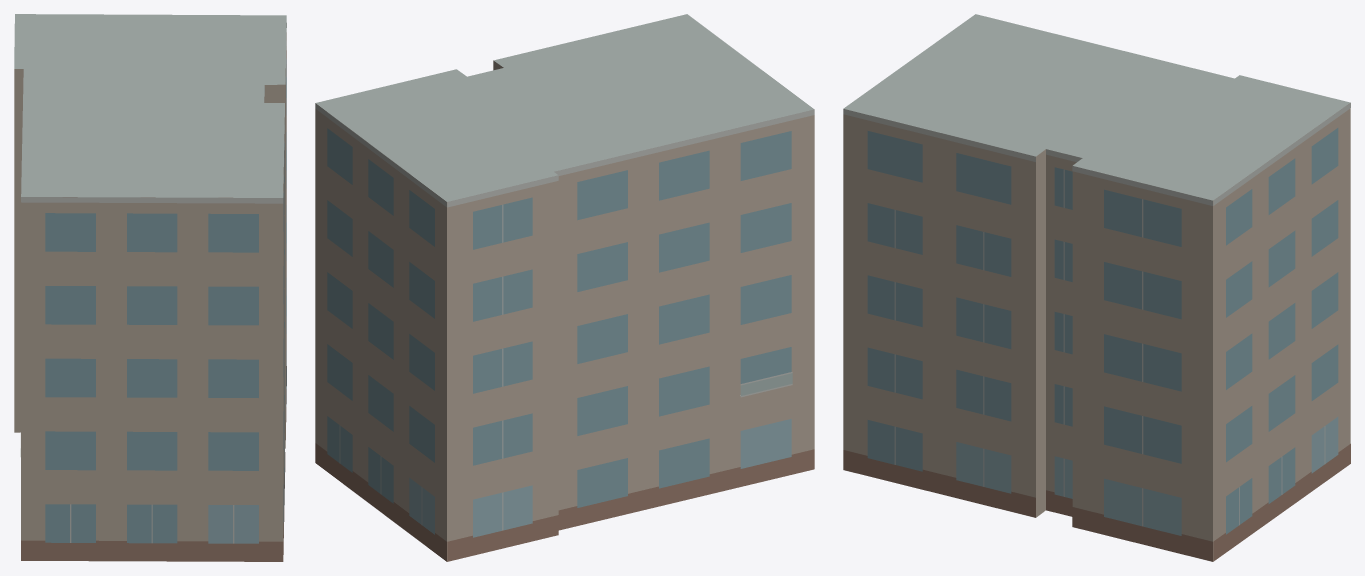
File: survey-upis-32945272.glb
The picture shows the model from 3 angles, left to right: view 1: azimuth 30°, elevation 25°; view 2: azimuth 150°, elevation 25°; view 3: azimuth 270°, elevation 25°; orthographic projection.
Visible parts, largest first — view 1: survey-upis-32945272.tmp; view 2: survey-upis-32945272.tmp; view 3: survey-upis-32945272.tmp.
Boxes of the visible parts, box(x1,y1,x2,y2) form: survey-upis-32945272.tmp: box(14, 14, 286, 561); survey-upis-32945272.tmp: box(315, 14, 814, 561); survey-upis-32945272.tmp: box(843, 14, 1350, 561).
Size of the model in its own units: 17.57 by 15.85 by 20.19.
